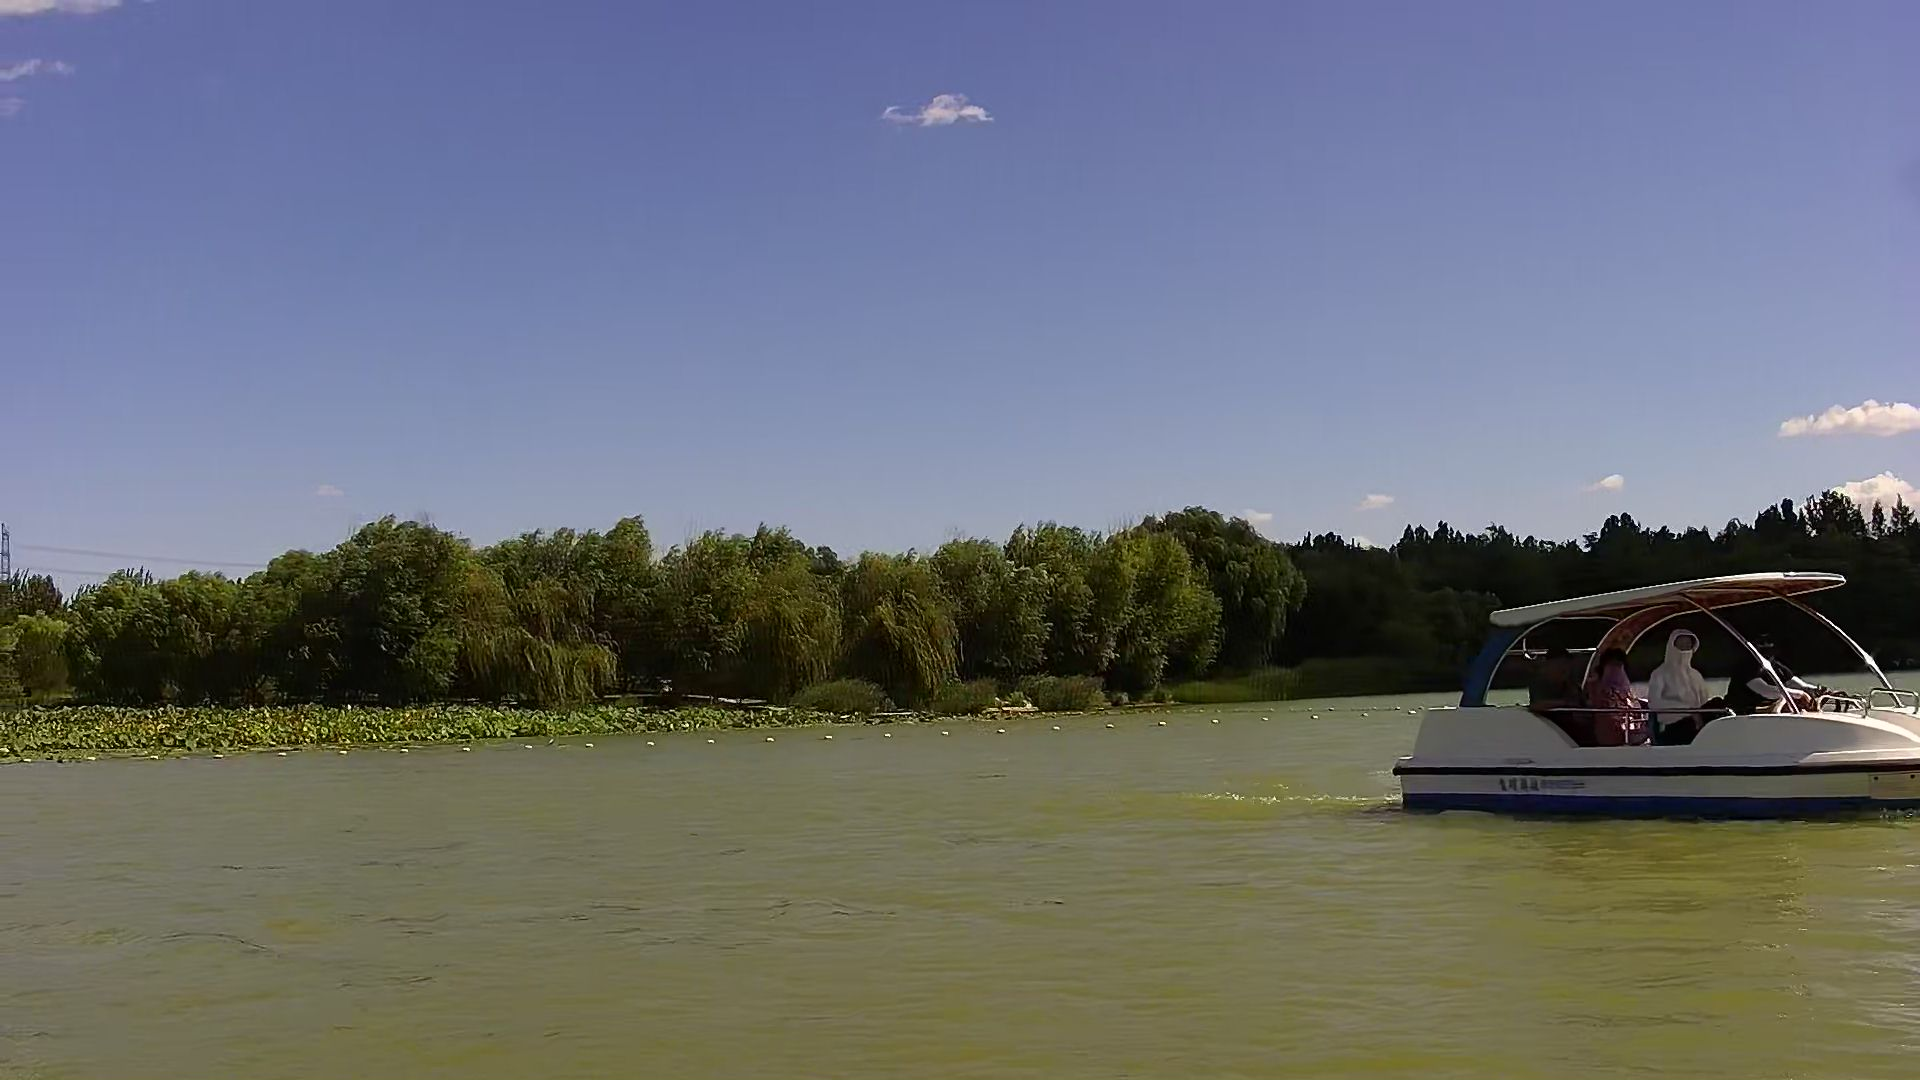boat: (1385, 567, 1920, 808)
